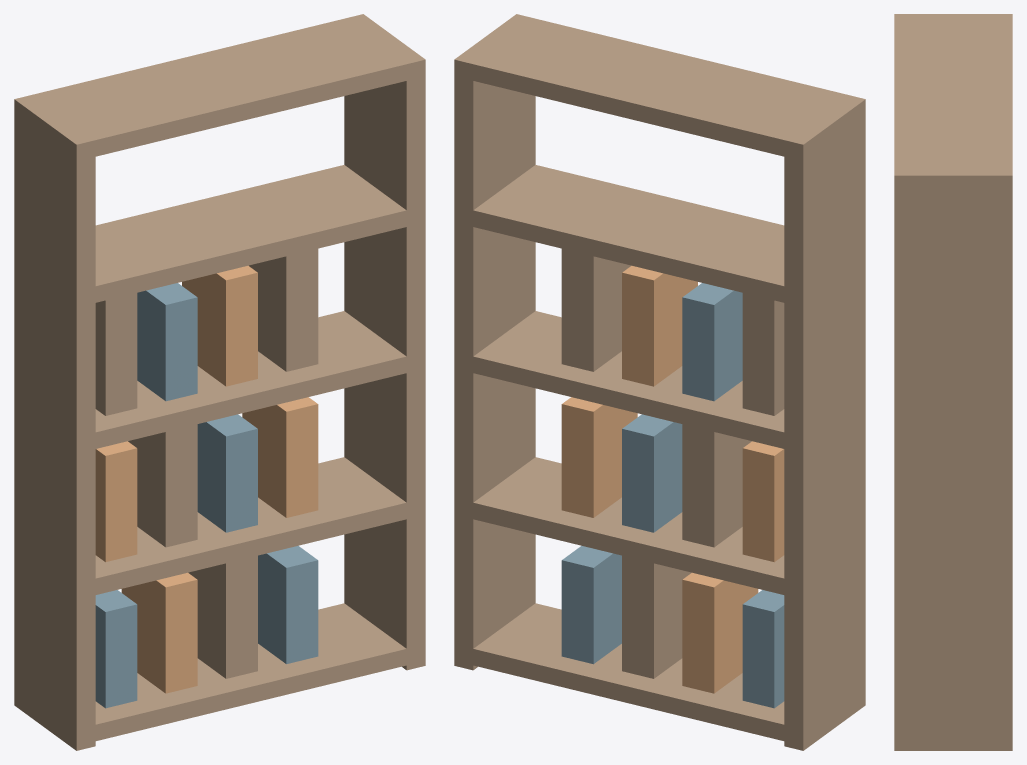
File: prop-bookshelf.glb
3 renders of one model, left to right at view 1: azimuth 30°, elevation 25°; view 2: azimuth 150°, elevation 25°; view 3: azimuth 270°, elevation 25°, orthographic. The views are drawn at different scales.
Parts seen in each view (by area): view 1: side--1, side-1, shelf-1.8, shelf-1.36, shelf-0.04, shelf-0.92, shelf-0.48, book-7, book-1, book-10, book-11, book-5 (+7 smaller); view 2: side--1, side-1, shelf-1.8, shelf-1.36, shelf-0.04, shelf-0.92, shelf-0.48, book-7, book-1, book-10, book-11, book-5 (+7 smaller); view 3: side-1, shelf-1.8, shelf-0.92, shelf-1.36, shelf-0.48, shelf-0.04.
Boxes of the visible parts, box(x1,y1,x2,y2) form: side--1: box(14, 108, 95, 750); side-1: box(344, 68, 425, 670); shelf-1.8: box(14, 14, 425, 160); shelf-1.36: box(14, 165, 423, 306); shelf-0.04: box(14, 603, 425, 745); shelf-0.92: box(14, 311, 425, 453); shelf-0.48: box(36, 457, 425, 599); book-7: box(242, 397, 318, 517); book-1: box(121, 572, 197, 693); book-10: box(182, 265, 257, 386); book-11: box(249, 248, 318, 371); book-5: box(128, 424, 197, 547); side--1: box(784, 108, 865, 750); side-1: box(454, 68, 535, 670); shelf-1.8: box(454, 14, 865, 160); shelf-1.36: box(455, 165, 865, 304); shelf-0.04: box(454, 603, 865, 745); shelf-0.92: box(454, 311, 865, 452); shelf-0.48: box(454, 457, 850, 599); book-7: box(561, 397, 637, 517); book-1: box(682, 572, 758, 693); book-10: box(622, 265, 697, 386); book-11: box(561, 248, 630, 371); book-5: box(682, 424, 751, 547); side-1: box(894, 183, 1012, 750); shelf-1.8: box(894, 14, 1012, 191); shelf-0.92: box(894, 453, 1012, 468); shelf-1.36: box(894, 314, 1012, 329); shelf-0.48: box(894, 591, 1012, 604); shelf-0.04: box(894, 737, 1012, 745).
Bounding box in the file's own units: 1.1 × 1.82 × 0.34.
